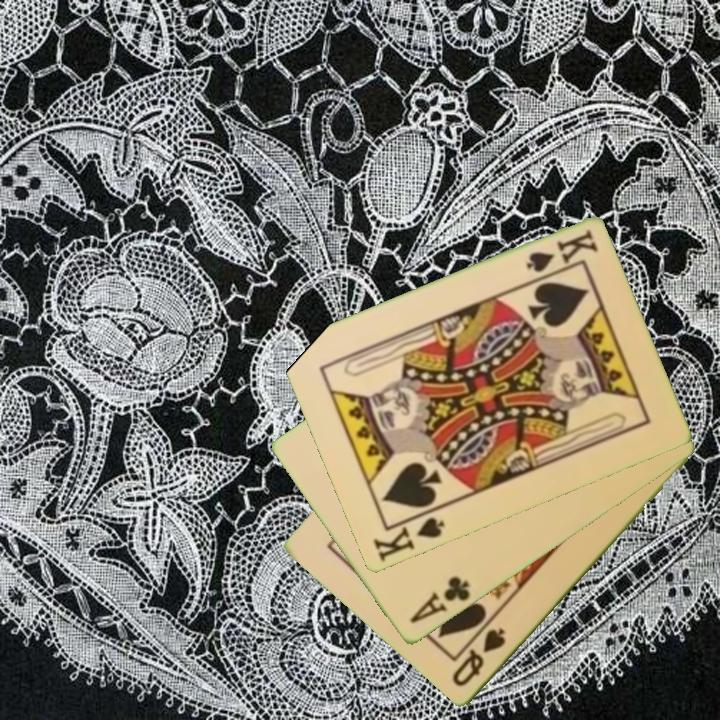Ac: (406, 573, 473, 627)
Ks: (369, 505, 448, 566), (522, 226, 601, 276)
Qs: (448, 625, 509, 690)
